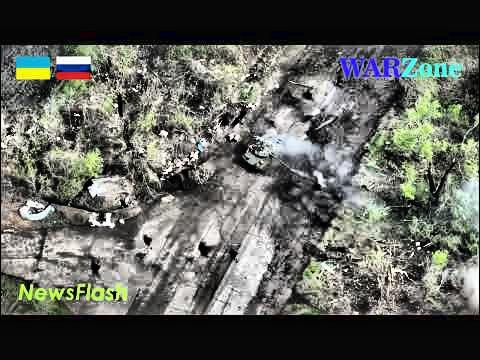military-vehicle: (242, 134, 287, 171)
